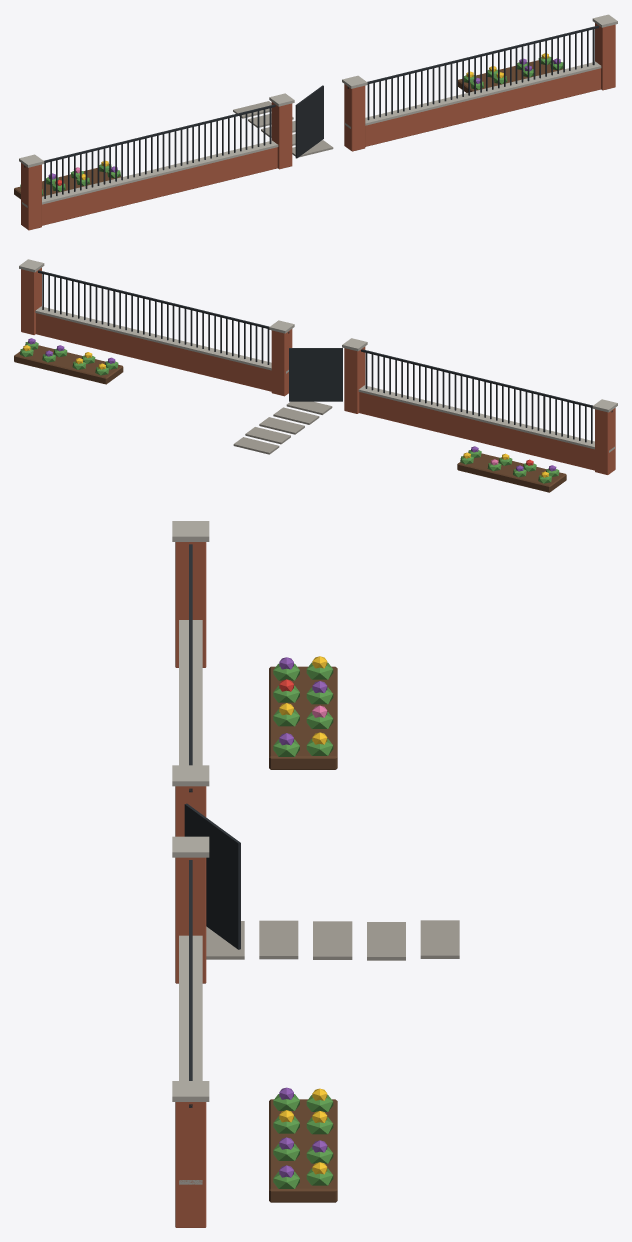
File: Yard_Bars_12.fbx
3 views of the same model, one above another, from view 1: azimuth 30°, elevation 25°; view 2: azimuth 150°, elevation 25°; view 3: azimuth 270°, elevation 25° (orthographic). The views are drawn at different scales.
Visible parts, largest first — view 1: Yard_Bars_12; view 2: Yard_Bars_12; view 3: Yard_Bars_12.
Boxes of the visible parts, x1=… form: Yard_Bars_12: x1=14, y1=14, x2=617, y2=230; Yard_Bars_12: x1=14, y1=259, x2=617, y2=492; Yard_Bars_12: x1=172, y1=521, x2=459, y2=1227.
Size of the model in its own units: 13.93 by 1.5 by 2.94.
